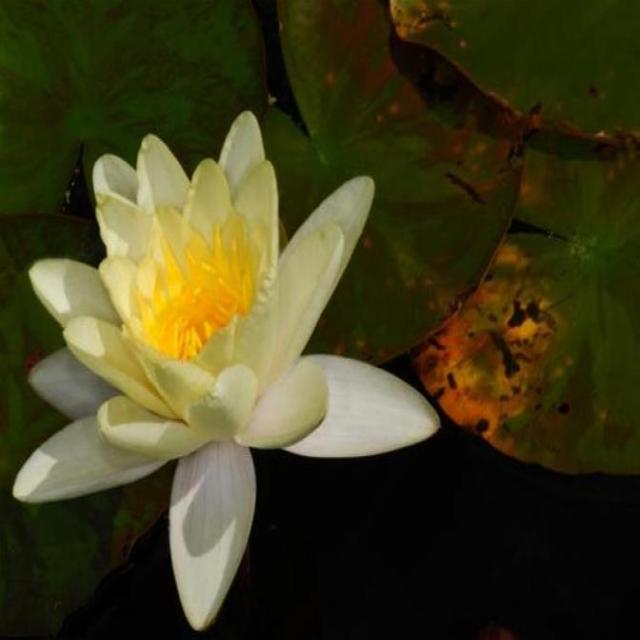water-lily: (2, 106, 470, 640)
